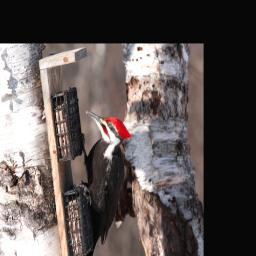Woodpecker: (75, 109, 134, 245)
